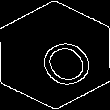O_NW: (19, 22, 91, 88)
